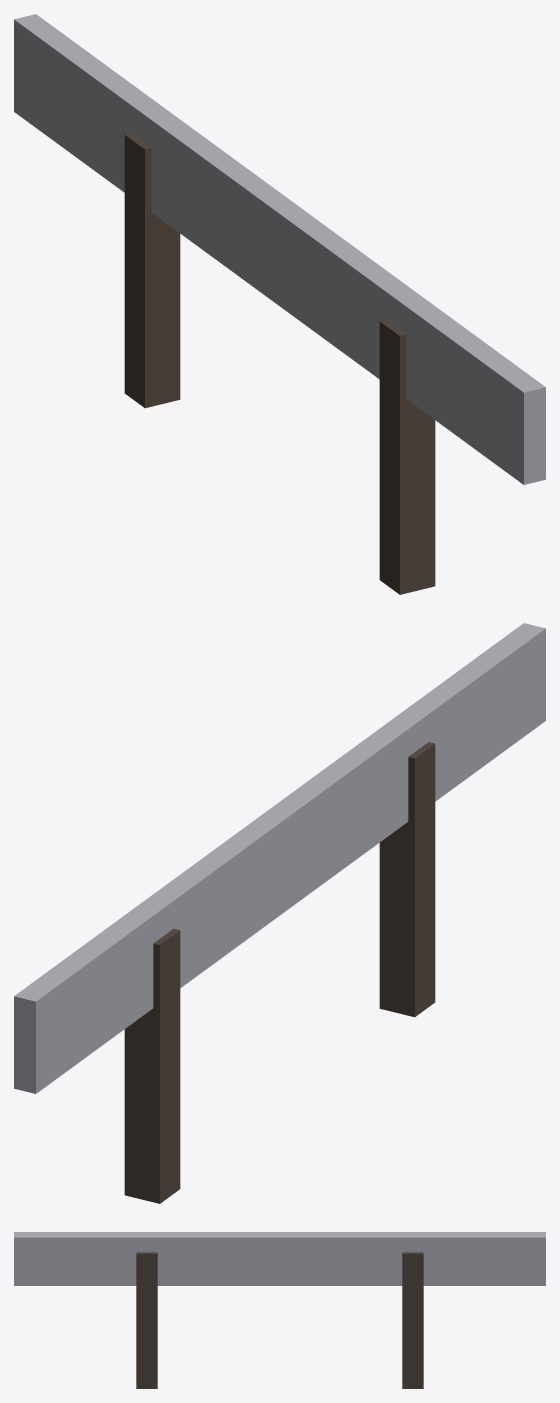
The model's file is rail.obj.
The picture shows the model from 3 angles, top to bottom: view 1: azimuth 30°, elevation 25°; view 2: azimuth 150°, elevation 25°; view 3: azimuth 270°, elevation 25°; orthographic projection. The views are drawn at different scales.
Size of the model in its own units: 0.08 by 0.62 by 2.
